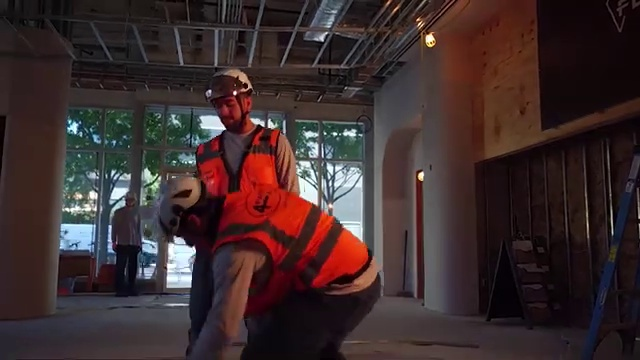helmet: (149, 178, 206, 238), (198, 67, 261, 97)
jacket: (214, 184, 384, 306), (195, 125, 288, 193)
